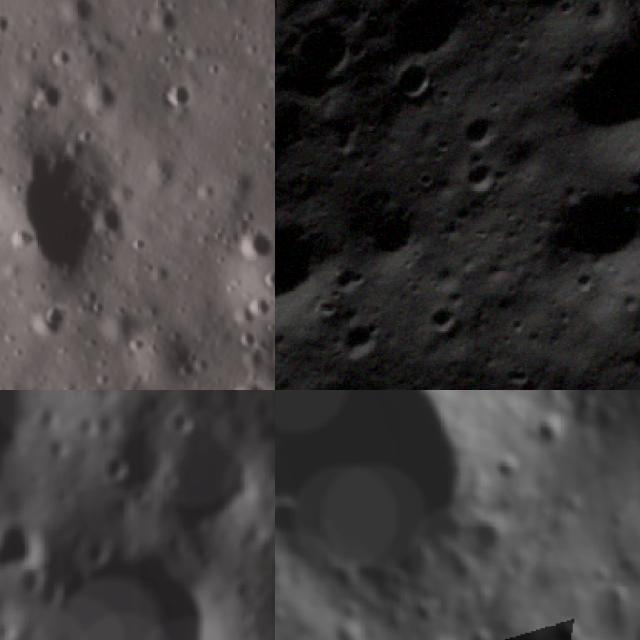crater: (275, 390, 526, 640), (28, 545, 241, 640), (528, 156, 640, 307), (275, 179, 349, 353), (164, 416, 273, 534), (557, 30, 640, 161), (351, 188, 448, 286), (279, 4, 375, 101), (385, 0, 488, 74), (322, 300, 396, 374), (380, 43, 451, 115), (451, 96, 513, 158), (0, 516, 53, 582), (412, 290, 470, 347), (458, 152, 510, 206), (466, 514, 512, 564), (529, 408, 575, 453), (142, 4, 188, 42), (598, 577, 638, 618), (611, 544, 640, 593), (27, 84, 63, 122), (162, 78, 198, 114), (30, 304, 64, 341), (234, 232, 272, 264), (76, 77, 110, 112), (545, 612, 587, 640), (55, 0, 101, 25), (3, 224, 38, 256), (106, 449, 135, 486), (462, 616, 502, 640), (52, 42, 74, 68), (0, 7, 13, 36)
